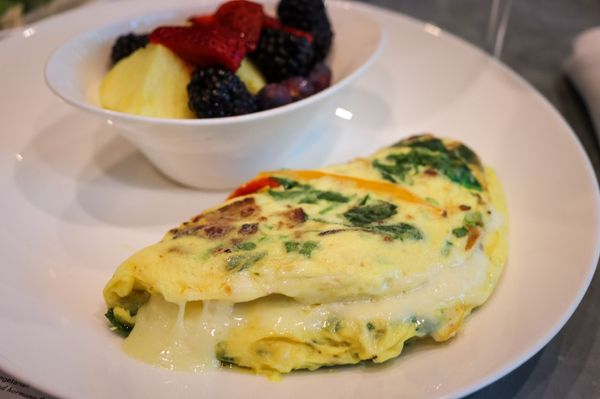curry: (373, 135, 485, 195)
sushi: (43, 0, 390, 190)
